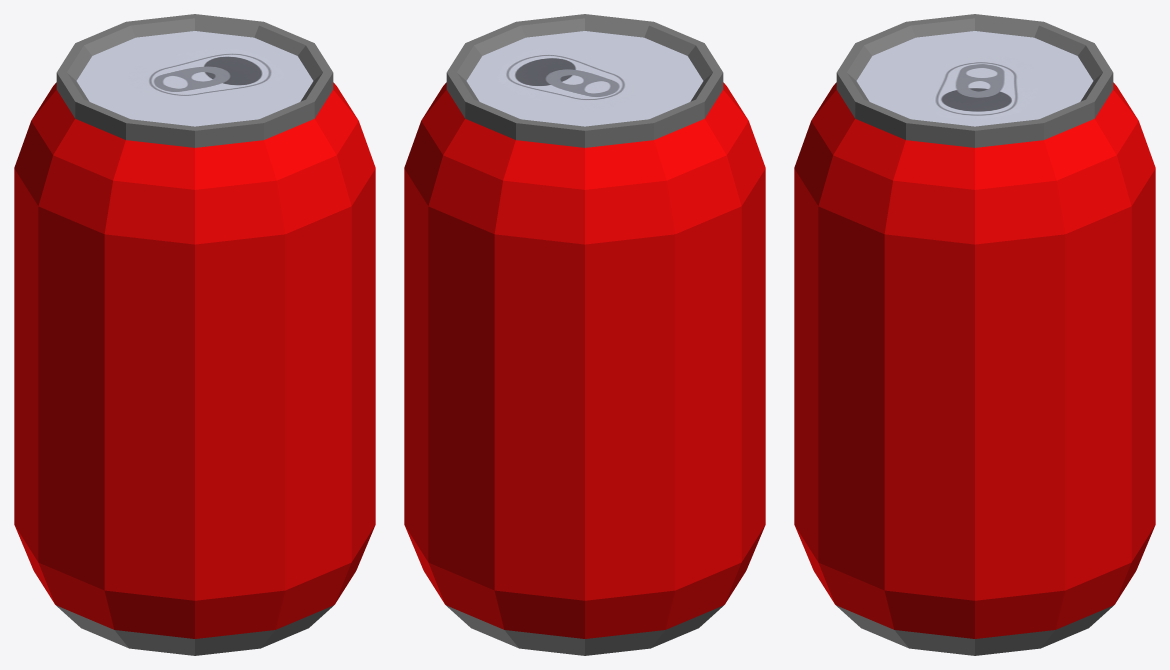
The model's file is bobbin3.glb.
3 renders of one model, left to right at view 1: azimuth 30°, elevation 25°; view 2: azimuth 150°, elevation 25°; view 3: azimuth 270°, elevation 25°, orthographic.
Parts seen in each view (by area): view 1: SM_yilaguan_yecan_red_0; view 2: SM_yilaguan_yecan_red_0; view 3: SM_yilaguan_yecan_red_0.
Part boxes in pixels (box(x1,y1,x2,y2)): SM_yilaguan_yecan_red_0: box(14, 14, 375, 655); SM_yilaguan_yecan_red_0: box(404, 14, 765, 655); SM_yilaguan_yecan_red_0: box(794, 14, 1155, 655).
Size of the model in its own units: 38.77 by 62.46 by 38.77.
3 materials, 3 textured.
